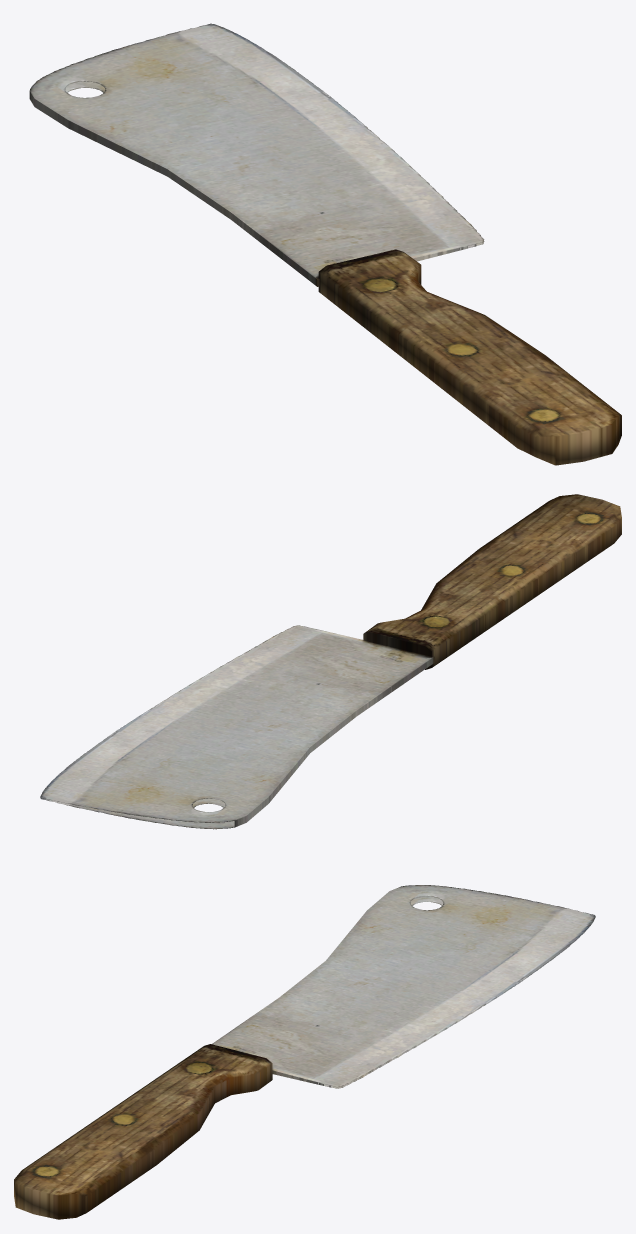
The model's file is knife-4.FBX.
The picture shows the model from 3 angles, top to bottom: view 1: azimuth 30°, elevation 25°; view 2: azimuth 150°, elevation 25°; view 3: azimuth 330°, elevation 25°; orthographic projection. The views are drawn at different scales.
Visible parts, largest first — view 1: Line01; view 2: Line01; view 3: Line01.
Boxes of the visible parts, <box> form: Line01: <box>29,23,621,465</box>; Line01: <box>40,494,621,829</box>; Line01: <box>14,885,595,1219</box>.
Size of the model in its own units: 4.73 by 0.5362 by 17.94.
